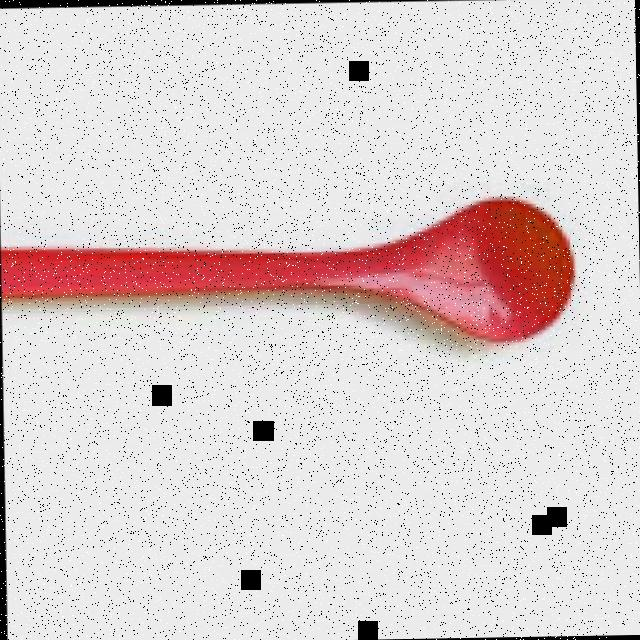plastic_spoon: (2, 189, 580, 348)
